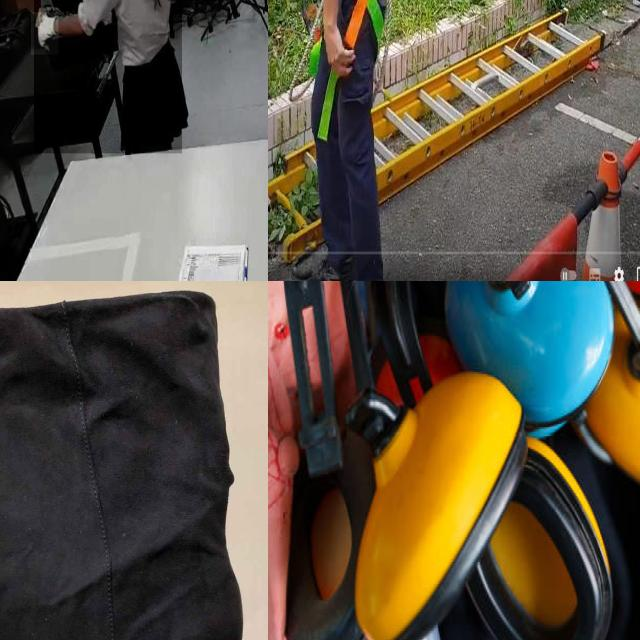Ear-protection: (355, 281, 531, 640), (282, 281, 375, 640), (479, 433, 615, 640), (443, 281, 615, 438), (591, 307, 640, 475)
Harness: (303, 0, 391, 151)
Sandals: (0, 281, 268, 640)
hand_glove: (31, 12, 59, 56)
person: (33, 0, 182, 154)
